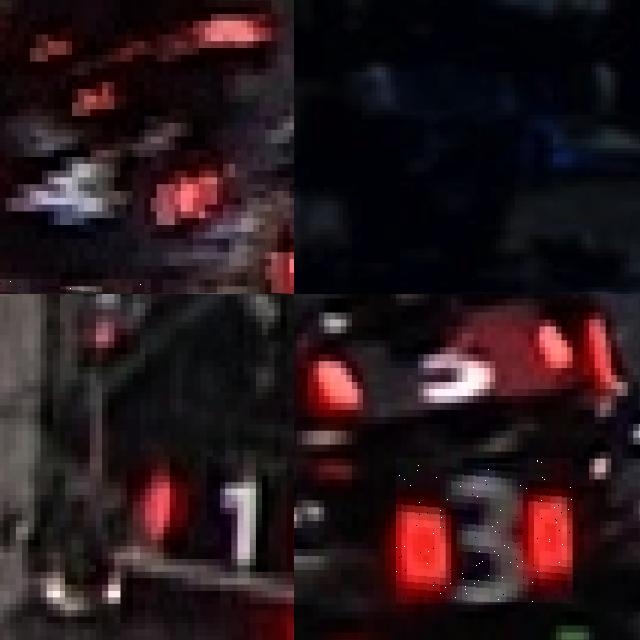R1: (132, 456, 294, 565)
R3: (396, 458, 573, 604)
